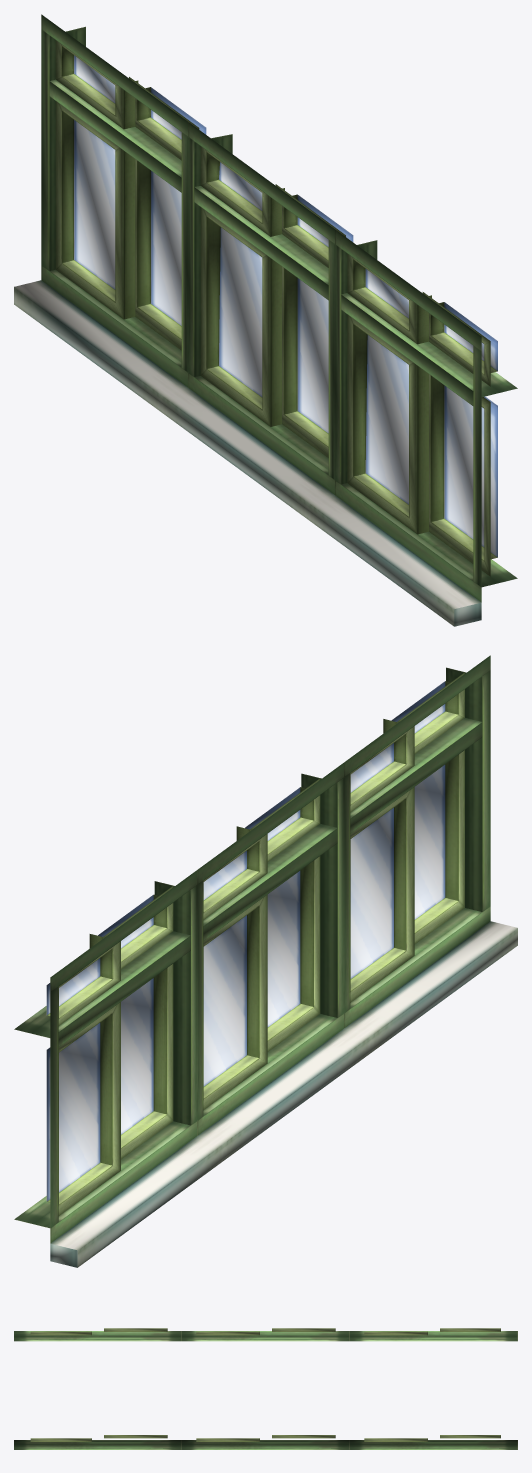
The model's file is a_SCwall01_2.glb.
The picture shows the model from 3 angles, top to bottom: view 1: azimuth 30°, elevation 25°; view 2: azimuth 150°, elevation 25°; view 3: azimuth 270°, elevation 25°; orthographic projection. The views are drawn at different scales.
Visible parts, largest first — view 1: a_SCwall01_2; view 2: a_SCwall01_2; view 3: a_SCwall01_2.
Boxes of the visible parts, box(x1,y1,x2,y2) form: a_SCwall01_2: box(14, 14, 517, 626); a_SCwall01_2: box(14, 655, 517, 1267); a_SCwall01_2: box(14, 1328, 517, 1449).
Bounding box in the file's own units: 0.35 × 1.49 × 4.2.
1 material, 1 textured.
